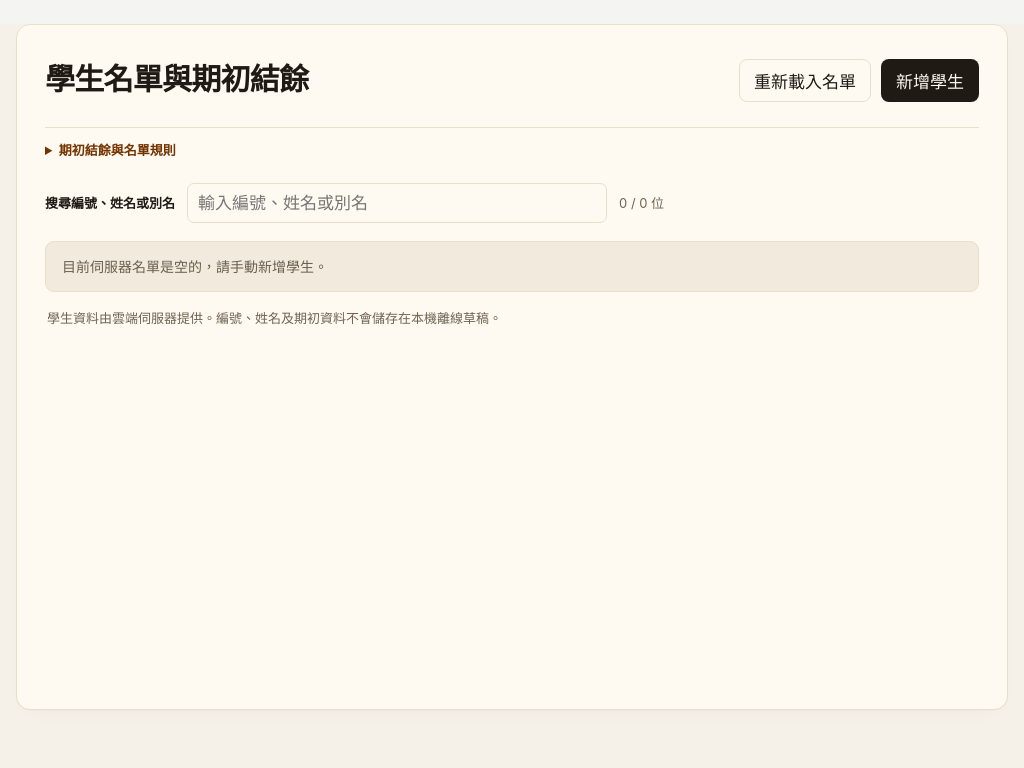
it: CloudStudentsPage › requires an explicit opening amount and opening mode before creating
Expected: the text "目前伺服器名單是空的，請手動新增學生。" is shown, [62, 258, 328, 275]
Click the button "新增學生" at [930, 80], box [881, 58, 979, 102]
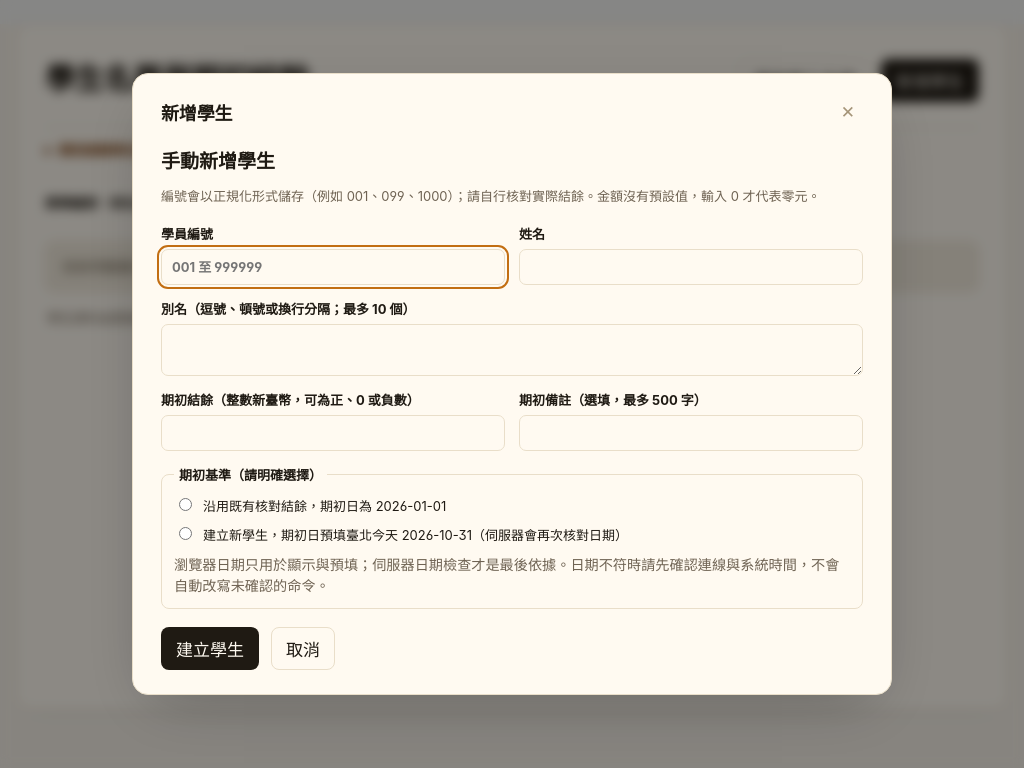
Type "001" into the field labelled "學員編號" at [333, 267], box [161, 249, 505, 285]
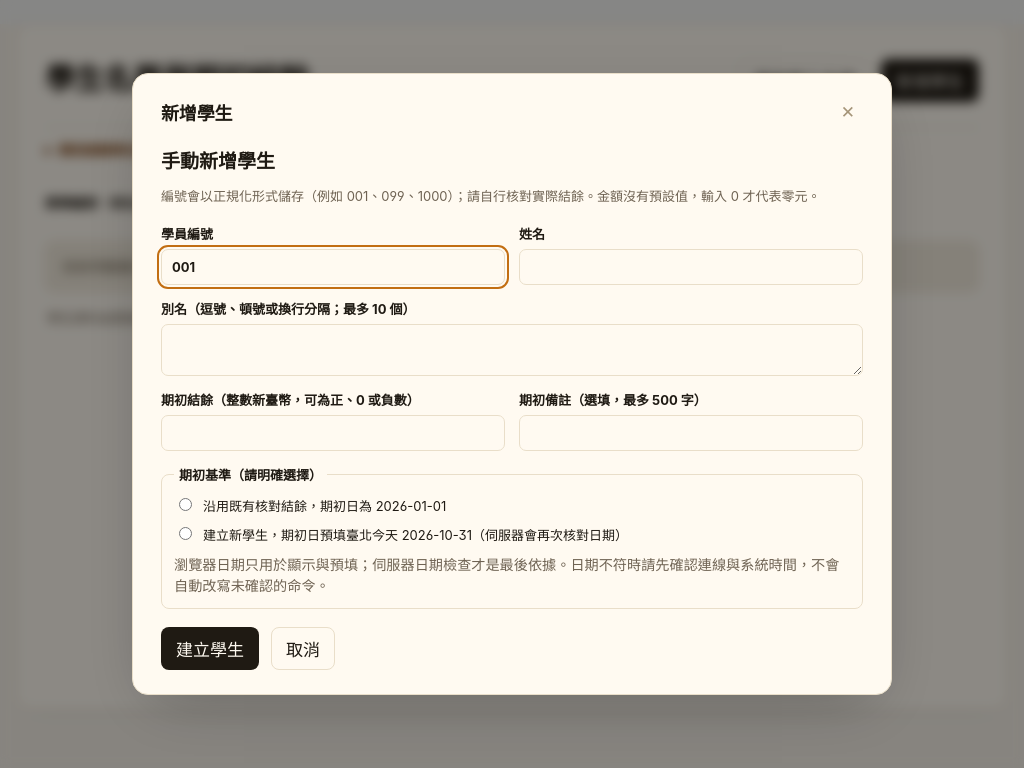
Type "新學生" into the field labelled "姓名" at [691, 267], box [519, 249, 863, 285]
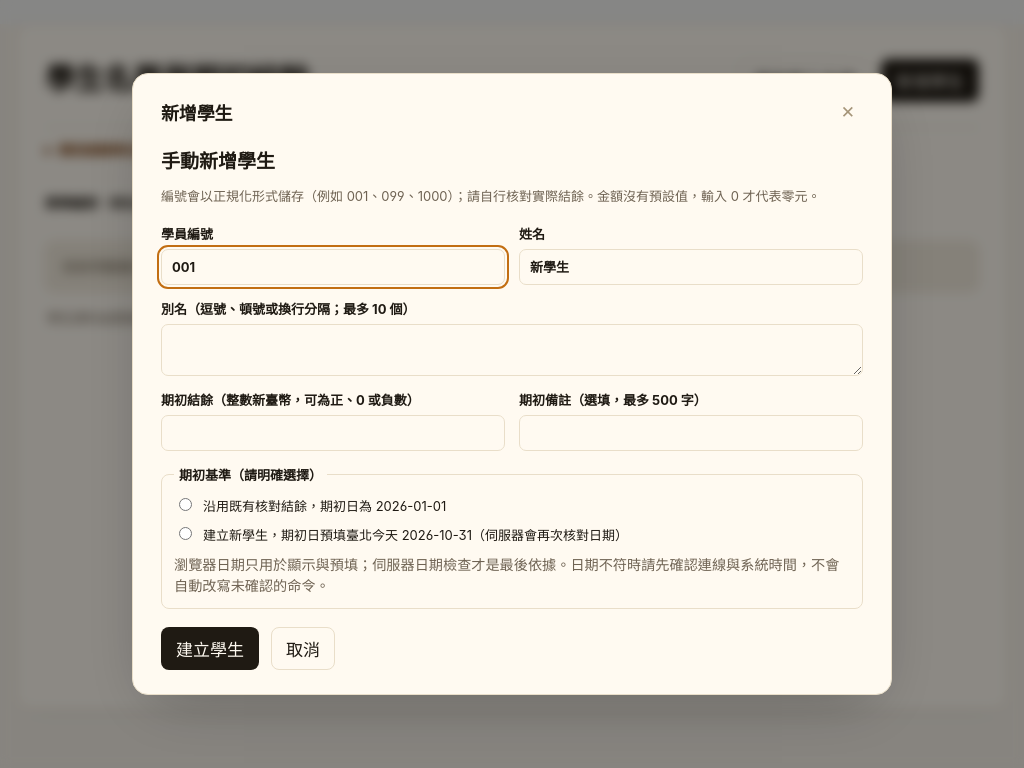
Click the button "建立學生" at [210, 649], box [161, 627, 259, 670]
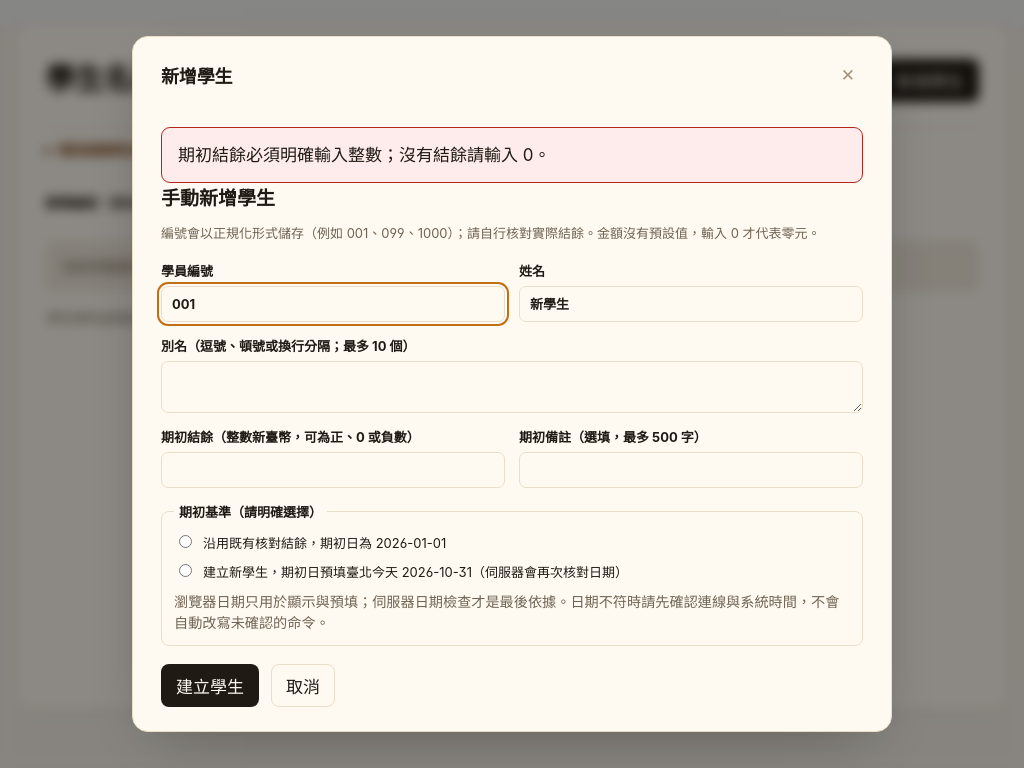
Now the message shows "期初結餘必須明確輸入整數", box [178, 144, 550, 164]
